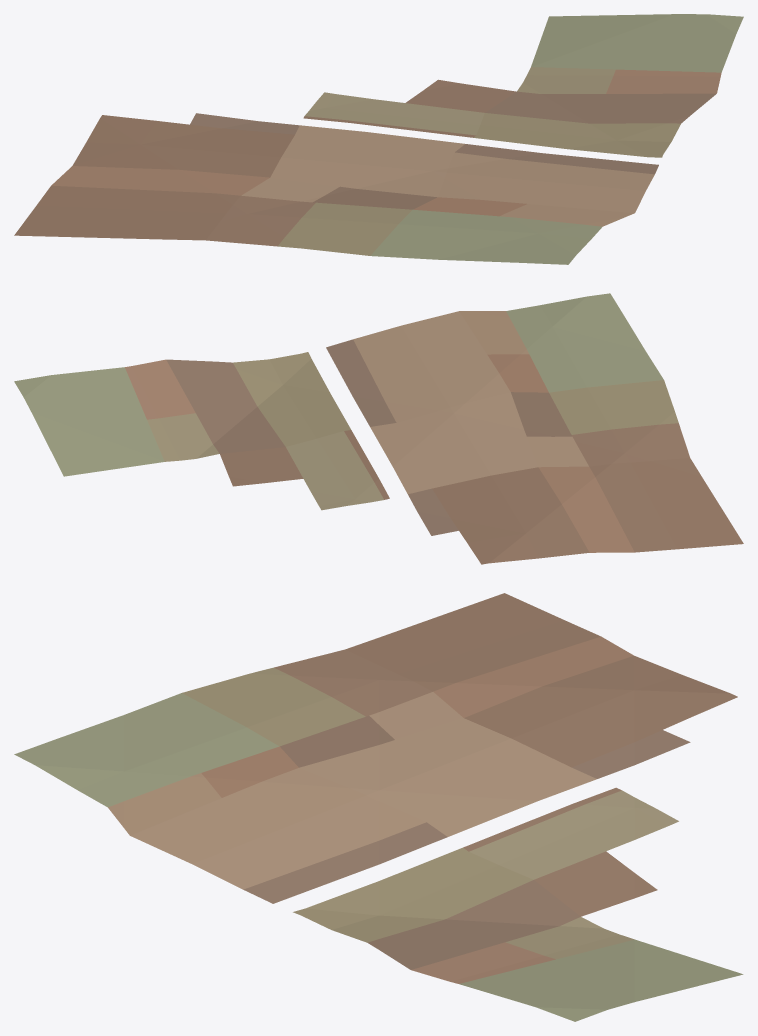
Rendered from farm_-9_-12_soil.glb.
3 renders of one model, top to bottom at view 1: azimuth 30°, elevation 25°; view 2: azimuth 150°, elevation 25°; view 3: azimuth 270°, elevation 25°, orthographic. The views are drawn at different scales.
Parts seen in each view (by area): view 1: geometry_0; view 2: geometry_0; view 3: geometry_0.
Boxes of the visible parts, x1,y1,x2,y2 form: geometry_0: (14,14,743,264); geometry_0: (14,293,743,564); geometry_0: (14,593,743,1021).
Bounding box in the file's own units: 329 × 19.66 × 229.
